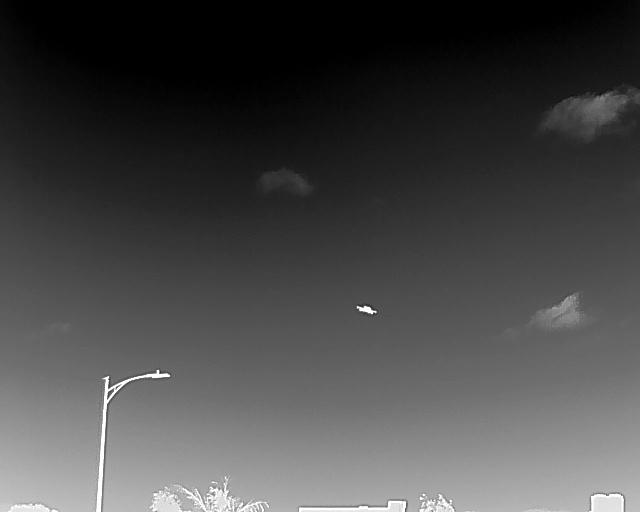fpv-drone: (355, 304, 377, 315)
